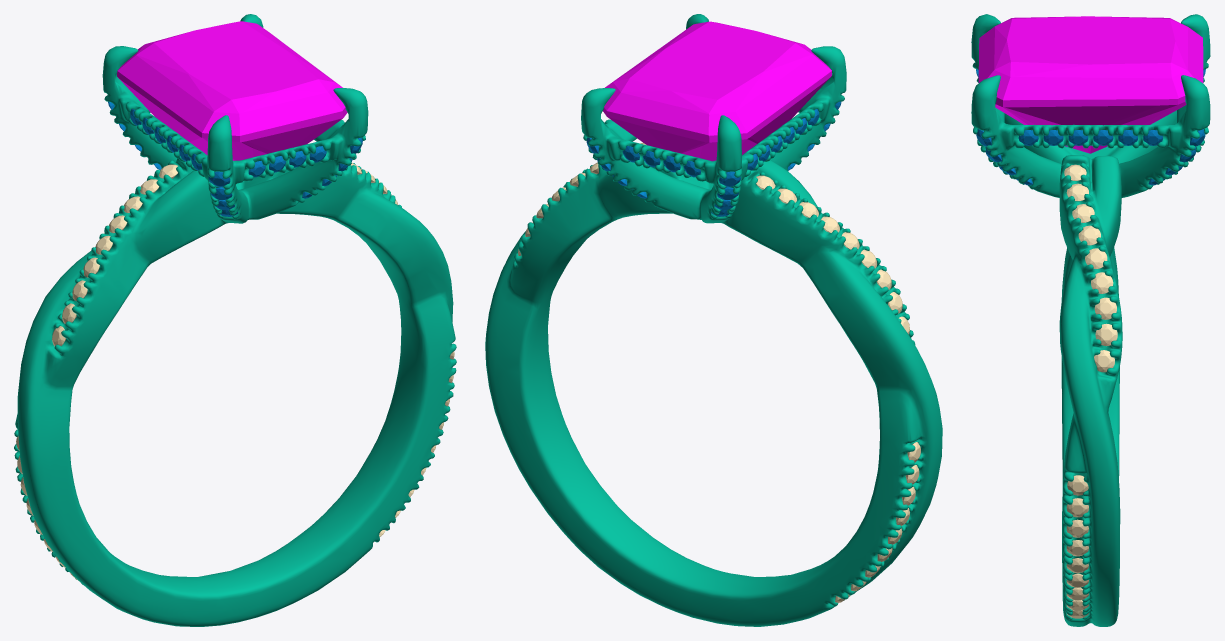
Rendered from BE1D1234_RA_200ct_RENDER.glb.
3 views of the same model, side by side, from view 1: azimuth 30°, elevation 25°; view 2: azimuth 150°, elevation 25°; view 3: azimuth 270°, elevation 25° (orthographic).
Parts seen in each view (by area): view 1: Metal 01, CS_Diamond_Radiant; view 2: Metal 01, CS_Diamond_Radiant; view 3: Metal 01, CS_Diamond_Radiant, Diamond_Round_Gem_SH.010, Diamond_Round_Gem_SH.011, Diamond_Round_Gem_SH.012, Diamond_Round_Gem_SH.009.
Part boxes in pixels (left/top/right/bottom): Metal 01: left=14, top=14, right=456, bottom=626; CS_Diamond_Radiant: left=117, top=21, right=347, bottom=160; Metal 01: left=485, top=14, right=942, bottom=626; CS_Diamond_Radiant: left=603, top=21, right=831, bottom=161; Metal 01: left=971, top=14, right=1210, bottom=626; CS_Diamond_Radiant: left=978, top=16, right=1203, bottom=153; Diamond_Round_Gem_SH.010: left=1095, top=323, right=1117, bottom=346; Diamond_Round_Gem_SH.011: left=1094, top=297, right=1116, bottom=319; Diamond_Round_Gem_SH.012: left=1091, top=272, right=1113, bottom=293; Diamond_Round_Gem_SH.009: left=1094, top=350, right=1114, bottom=372.
Size of the model in its own units: 20.7 by 25.03 by 9.62.
